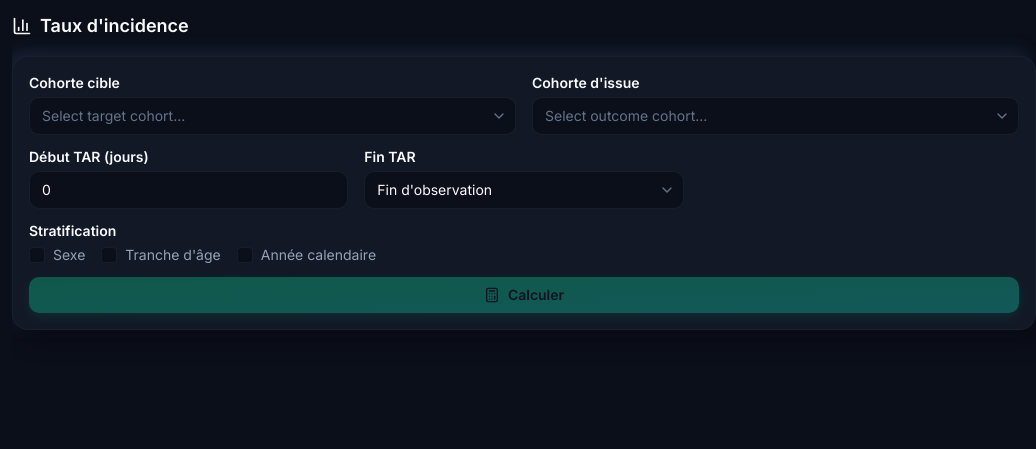
Test: IncidencePage numeric guards › renders a result whose numeric fields are all null without crashing
# Pick target + outcome cohort (Headless UI Listbox).
What coordinates should you click on to do the following:
click the button "Select target cohort..."
I would click on:
 (114, 116)
Its box is [29,97,516,135].
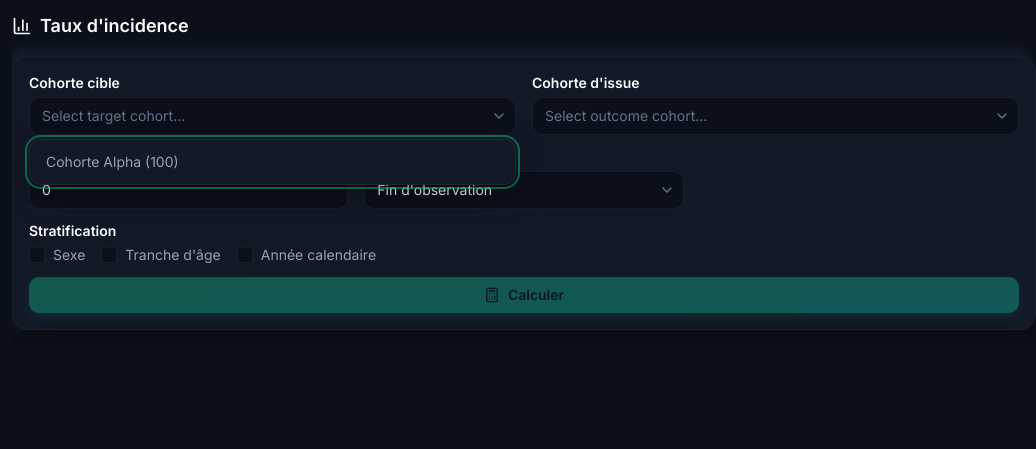
What coordinates should you click on to do the following:
click the option "Cohorte Alpha (100)"
I would click on:
 (112, 162)
Its box is [46,153,179,170].
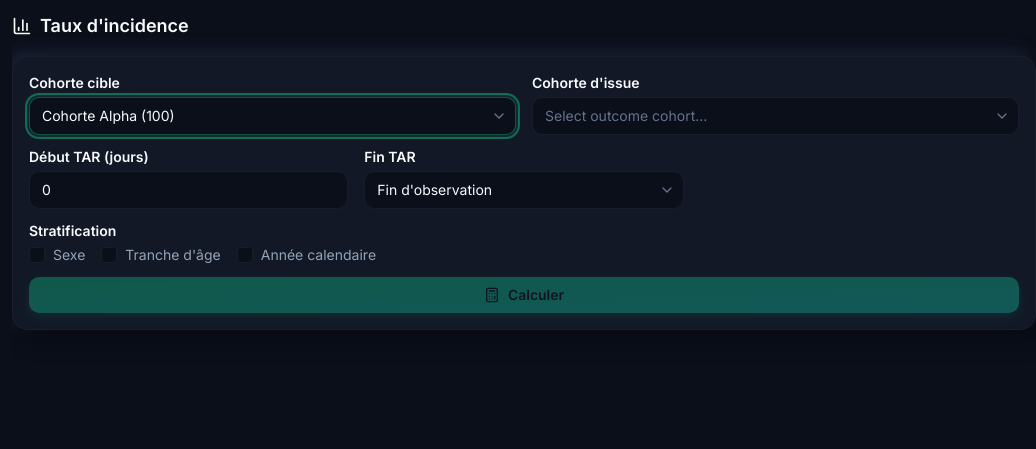
What coordinates should you click on to do the following:
click the button "Select outcome cohort..."
I would click on:
 (626, 116)
Its box is [532,97,1019,135].
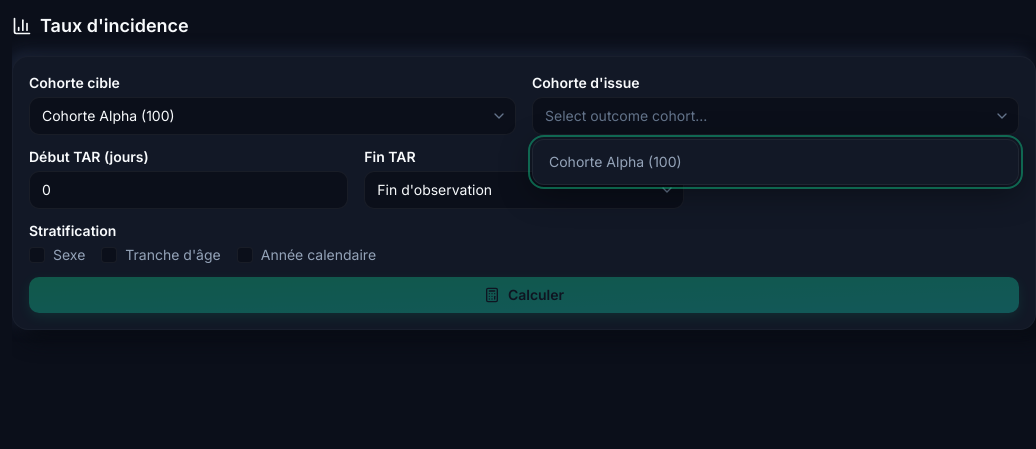
What coordinates should you click on to do the following:
click the option "Cohorte Alpha (100)"
I would click on:
 (615, 162)
Its box is [549,153,682,170].
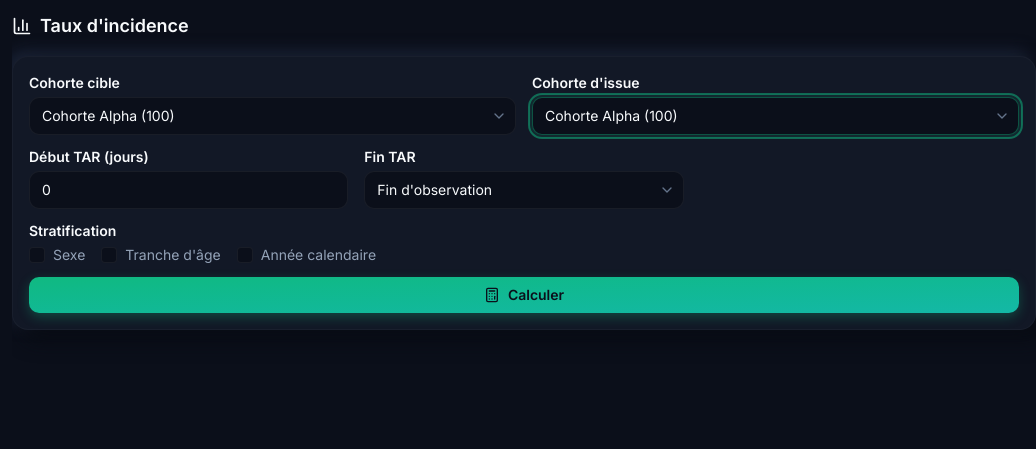
# Compute (FR label, since i18n defaults to 'fr').
What coordinates should you click on to do the following:
click the button "Calculer"
I would click on:
 (524, 295)
Its box is [29,277,1019,313].
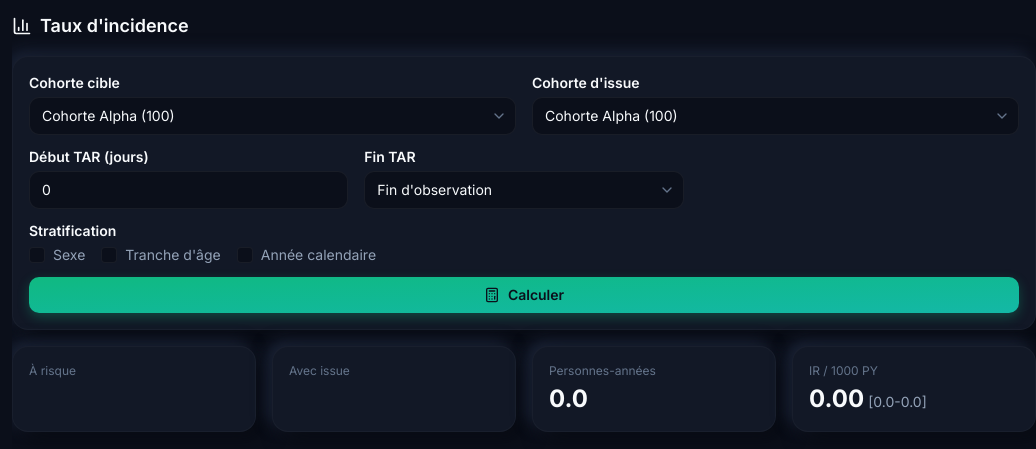
Check: the text "0.0" is shown, box [549,383,588,415]
